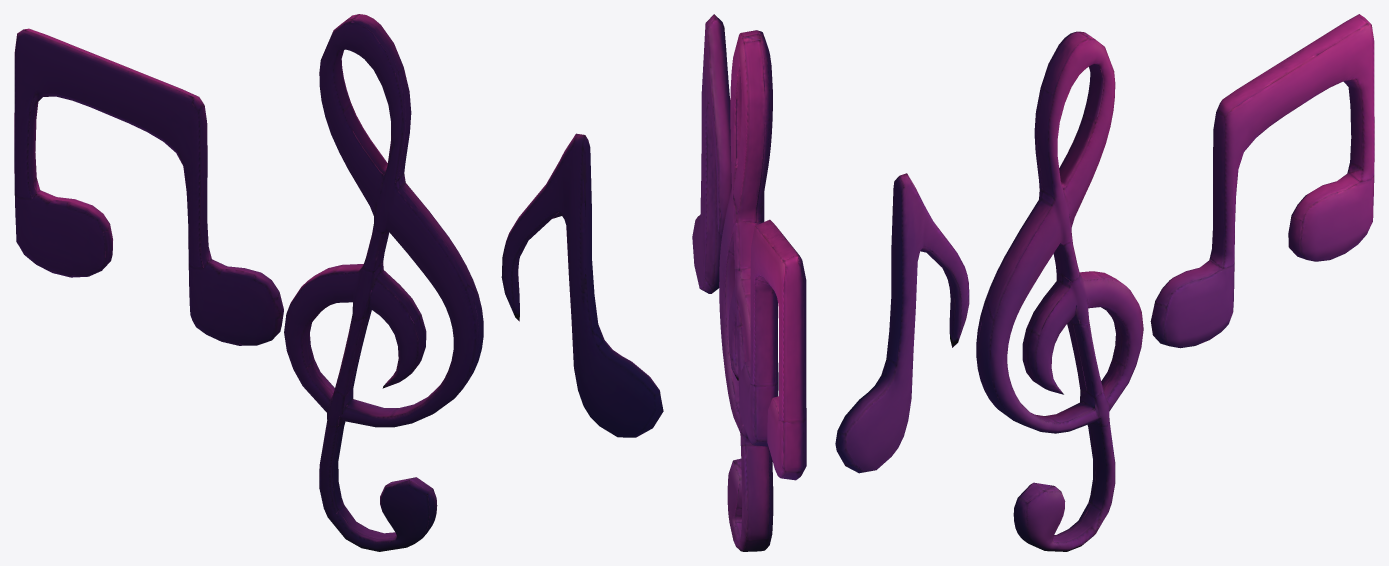
The model's file is ContactUs.glb.
The picture shows the model from 3 angles, left to right: view 1: azimuth 30°, elevation 25°; view 2: azimuth 150°, elevation 25°; view 3: azimuth 270°, elevation 25°; orthographic projection. The views are drawn at different scales.
Visible parts, largest first — view 1: Concert; view 2: Concert; view 3: Concert.
Boxes of the visible parts, x1,y1,x2,y2 form: Concert: (14,14,663,551); Concert: (692,14,806,551); Concert: (835,14,1374,551).
Bounding box in the file's own units: 1.04 × 1.38 × 1.33.
1 material, 1 textured.
